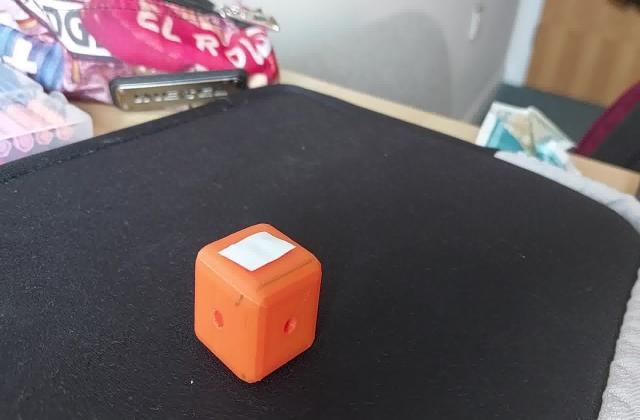cube: (186, 216, 324, 385)
white: (220, 238, 286, 277)
